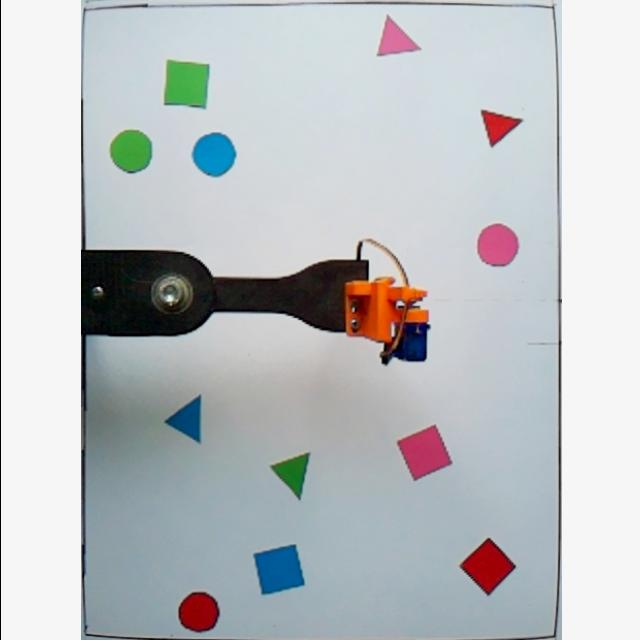blueCircle: (188, 129, 236, 181)
blueSquare: (250, 540, 304, 598)
blueTriangle: (160, 392, 204, 448)
greenCircle: (106, 127, 150, 175)
greenSquare: (160, 59, 210, 110)
greenTriangle: (267, 450, 309, 500)
pinkCircle: (473, 222, 517, 270)
pinkSquare: (391, 423, 452, 482)
pinkTriangle: (372, 13, 421, 61)
redCircle: (174, 588, 220, 634)
redSquare: (453, 536, 517, 598)
redTriangle: (475, 105, 525, 151)
